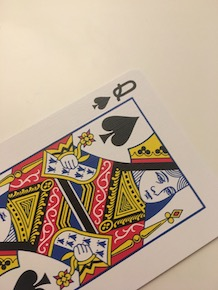QueenOfSpades: (1, 60, 214, 290)
